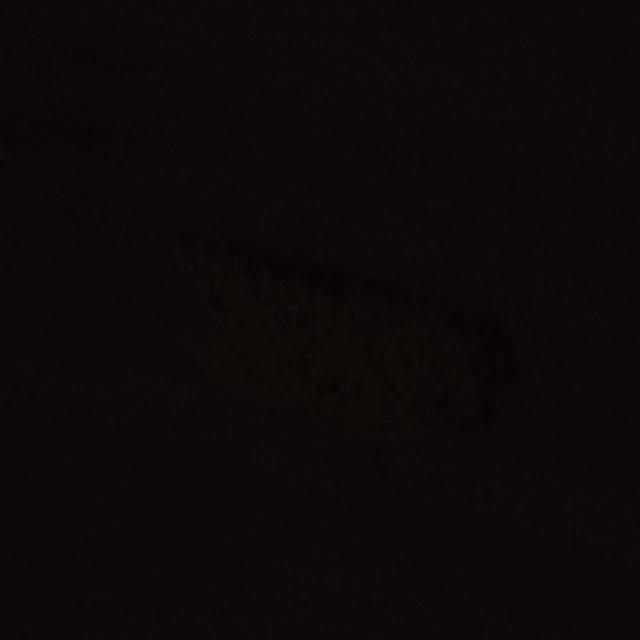Pothole: (153, 218, 524, 468)
